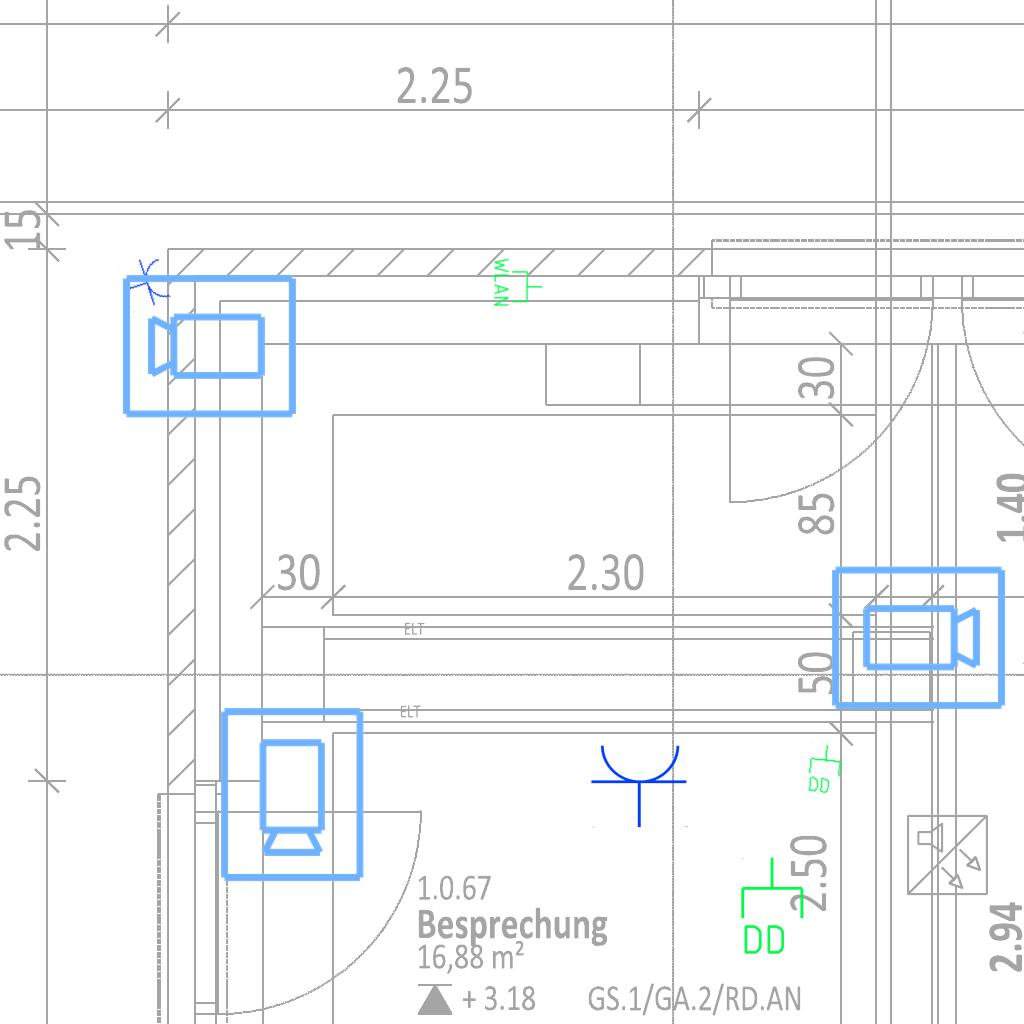Datenanschluss_zweifach: (737, 855, 806, 958), (804, 741, 845, 797)
KFO_Kamera_mit_Festobjektiv: (214, 703, 368, 885), (827, 562, 1009, 716), (119, 268, 301, 422)
Schukosteckdose_einfach: (590, 741, 690, 828), (117, 253, 175, 314)
WLAN: (492, 256, 544, 308)
